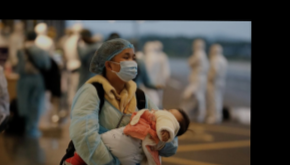with_mask: (112, 50, 137, 82)
